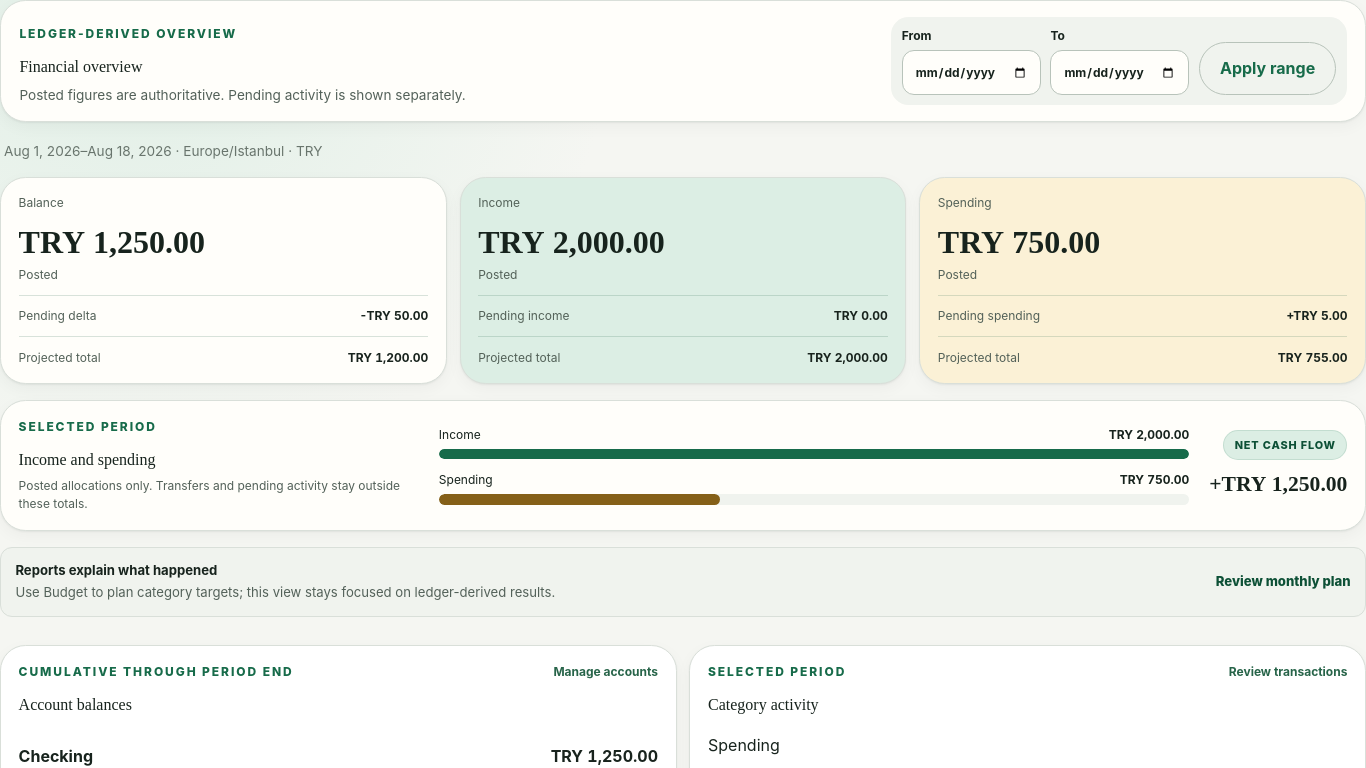
Scenario: FinancialDashboard › rejects an inverted date range before making another request
Check: the text "Checking" is shown, box [19,744,93,767]
Type "2026-08-20" into the date field named "Projection start date" at (971, 73), box [902,50,1041,95]
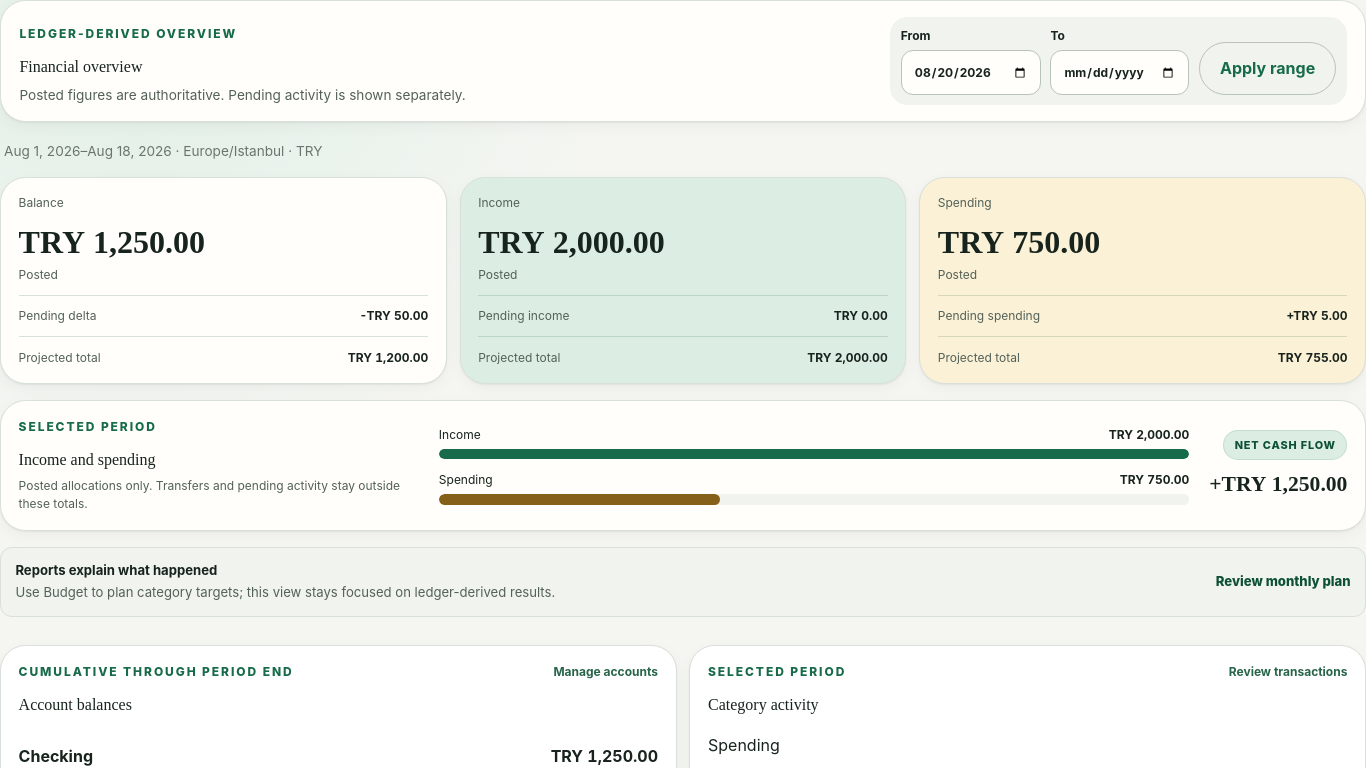
Type "2026-08-01" into the date field named "Projection end date" at (1120, 73), box [1050,50,1189,95]
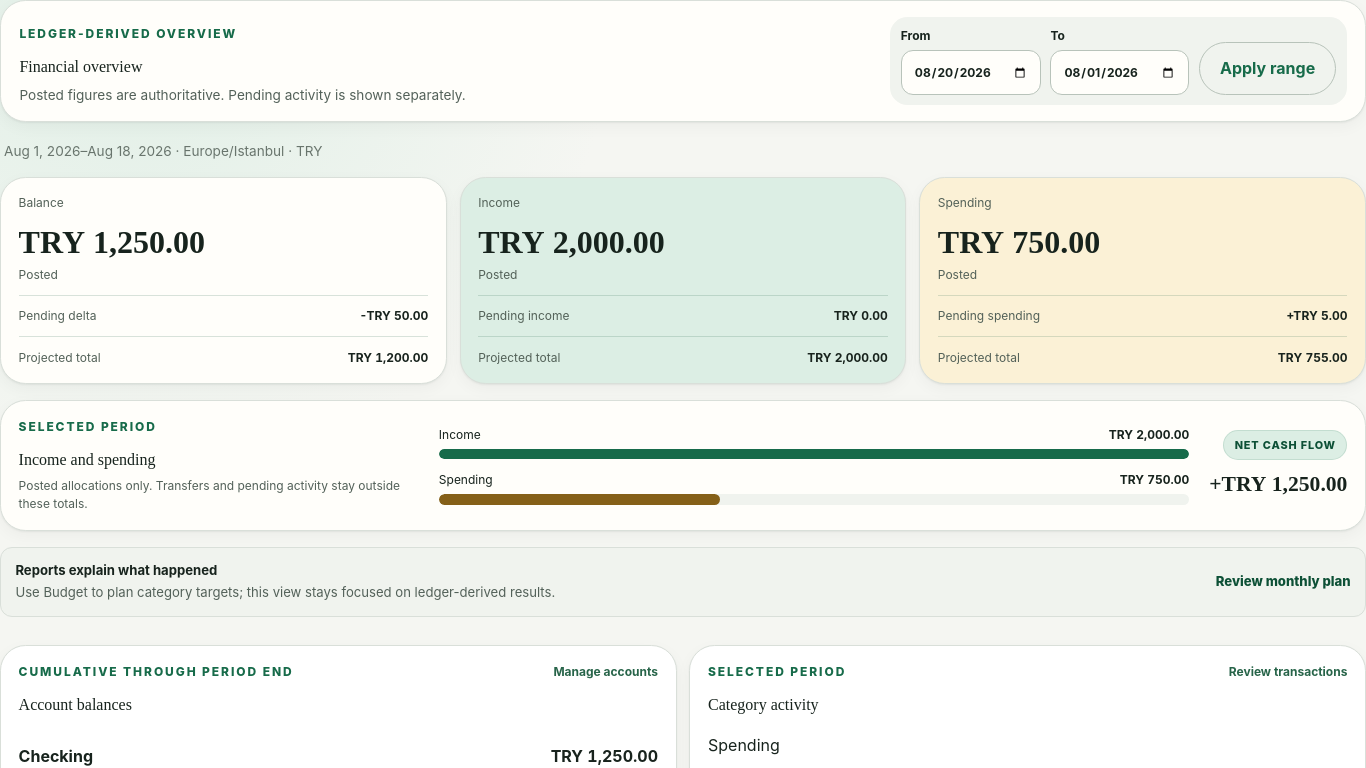
Click the button "Apply range" at (1268, 68), box [1199,42,1336,95]
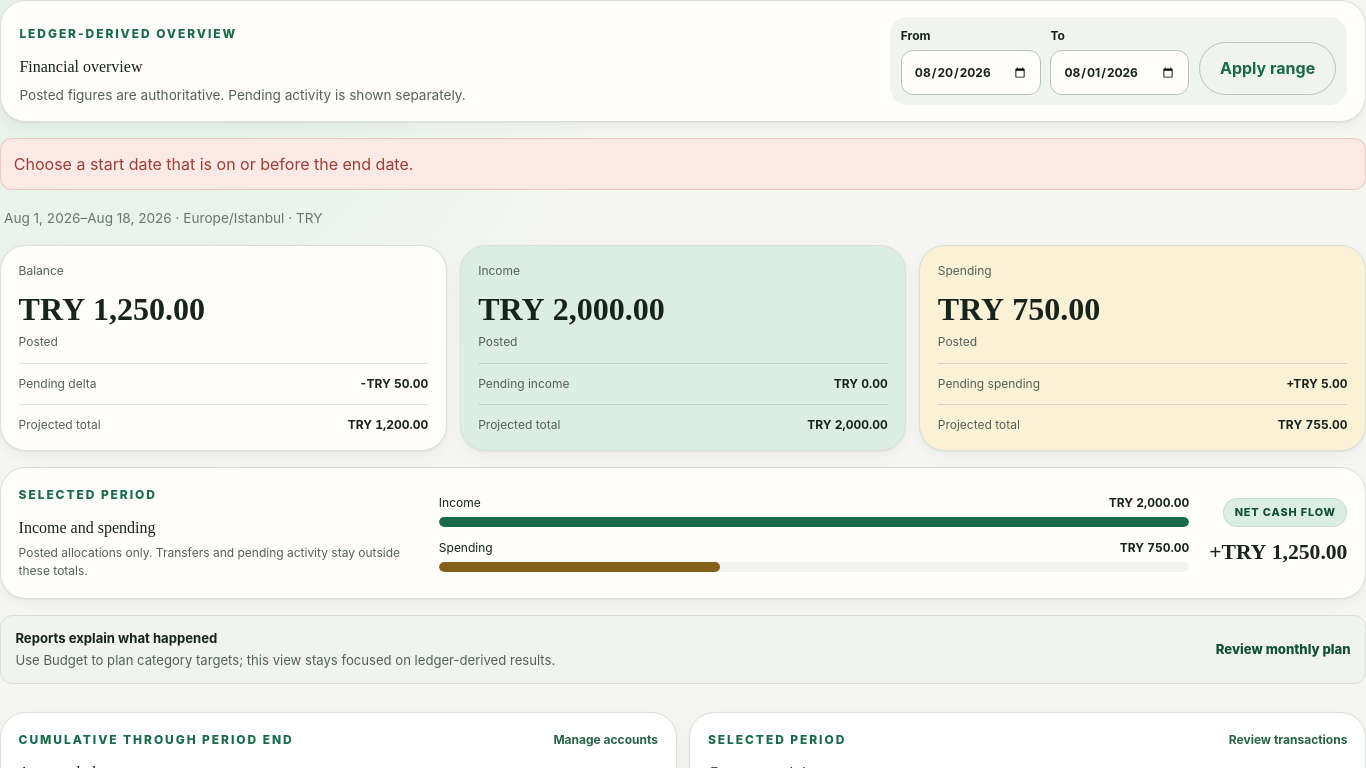
Check: the message shows "on or before the end date", box [14,154,413,174]
